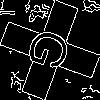G: (25, 25, 81, 78)
